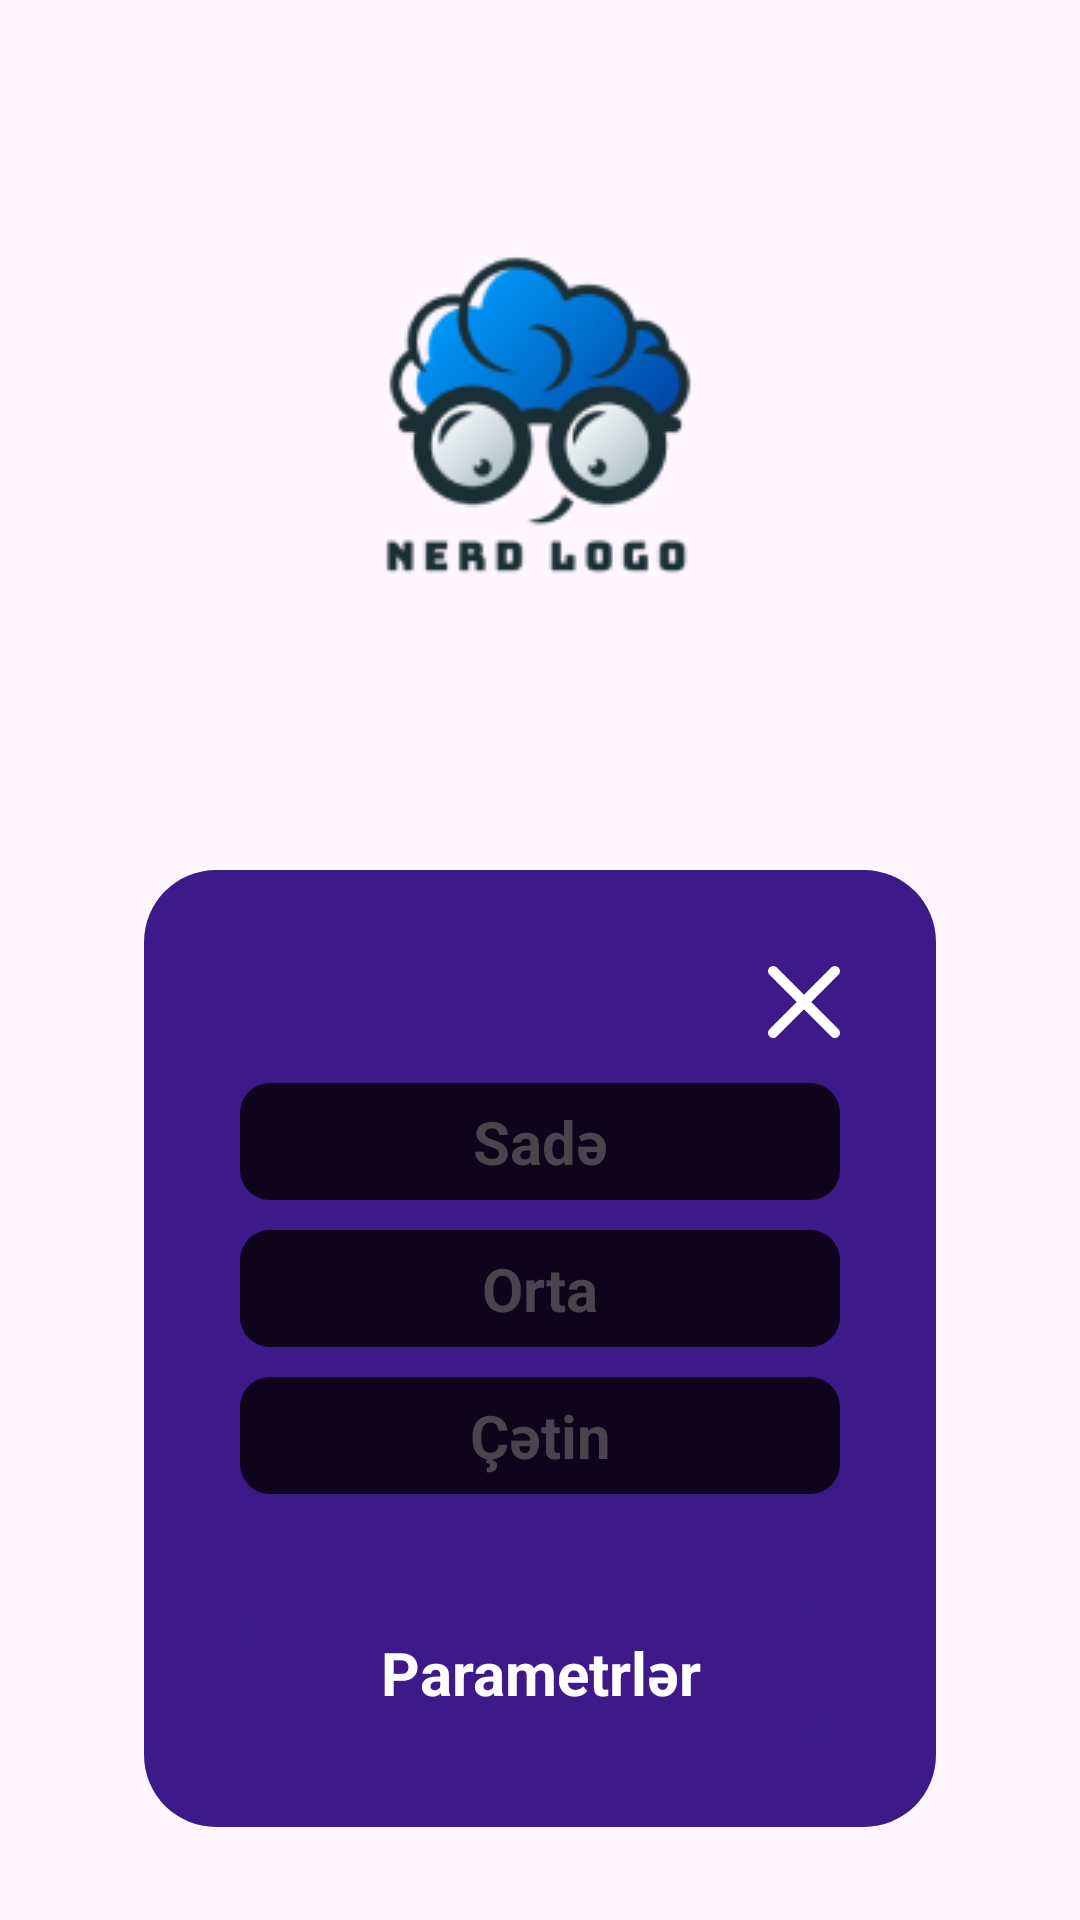

Where to tap for icons on this 1080 x 1920 app screen, as point (x, y):
cancel: point (804, 1002)
